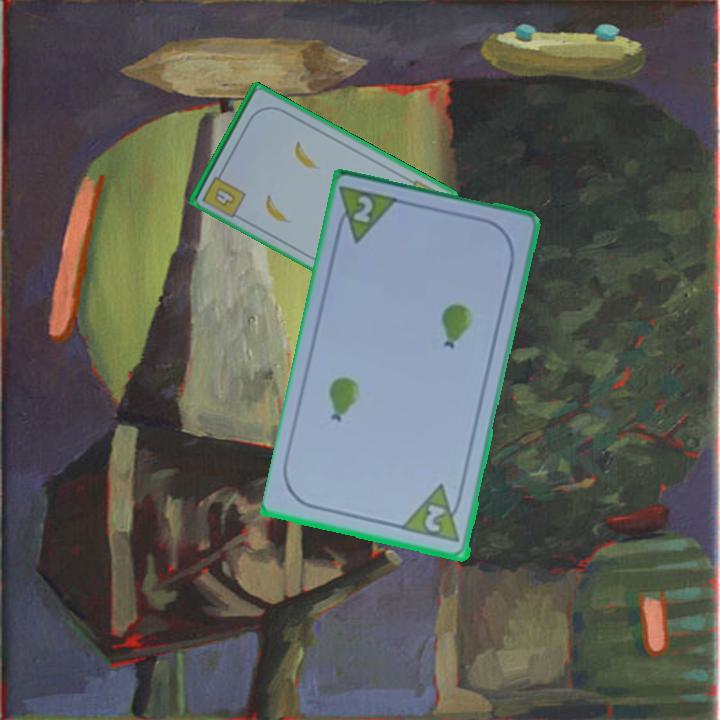2p: (400, 481, 467, 546), (349, 192, 376, 227)
4b: (199, 166, 248, 218)
